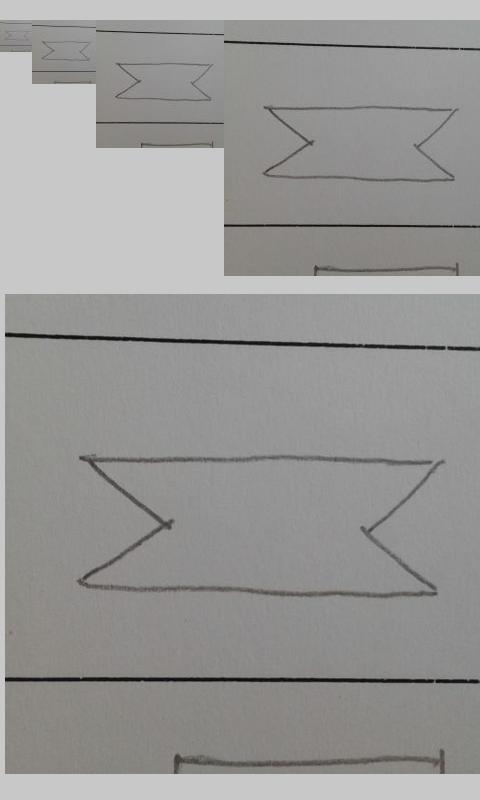edit_text: (79, 453, 442, 601), (265, 105, 457, 183), (114, 62, 214, 102), (40, 40, 90, 61), (4, 30, 29, 41)
